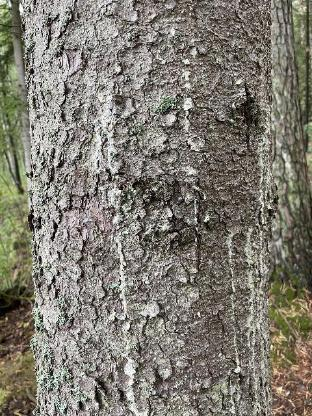tree: (8, 0, 291, 416)
